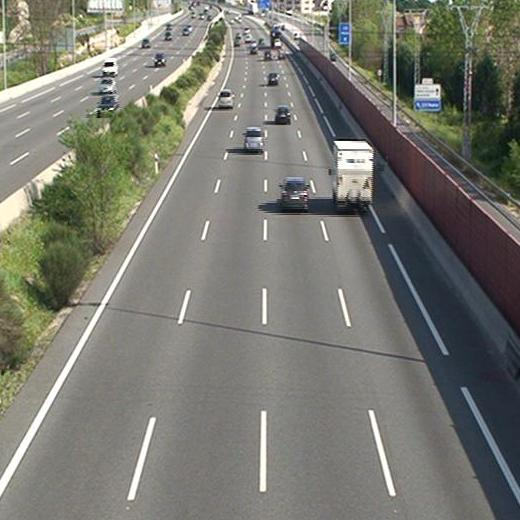car: (281, 177, 306, 208), (243, 127, 263, 150), (274, 106, 290, 123), (219, 89, 232, 107), (266, 73, 279, 84)
small-truck: (332, 140, 373, 209)
